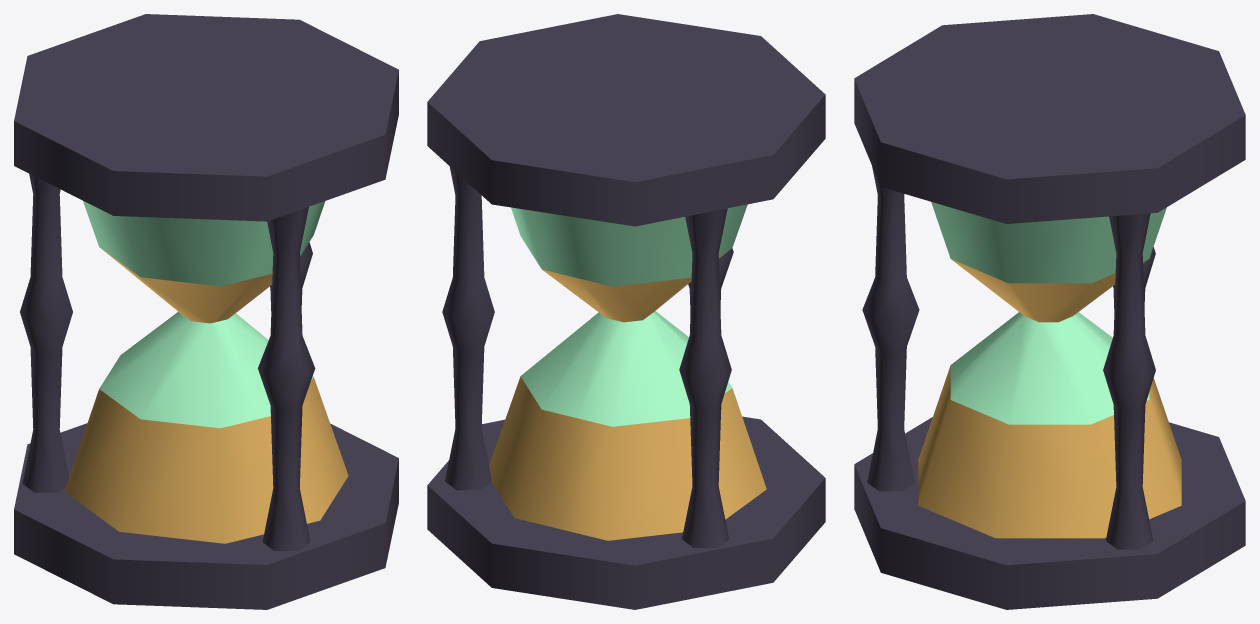
The model's file is Sandglass.fbx.
The picture shows the model from 3 angles, left to right: view 1: azimuth 30°, elevation 25°; view 2: azimuth 150°, elevation 25°; view 3: azimuth 270°, elevation 25°; orthographic projection.
Parts seen in each view (by area): view 1: _sandglass:_sandglass_0; view 2: _sandglass:_sandglass_0; view 3: _sandglass:_sandglass_0.
Part boxes in pixels (x1,y1,x2,y2): _sandglass:_sandglass_0: [14, 14, 398, 609]; _sandglass:_sandglass_0: [427, 14, 825, 609]; _sandglass:_sandglass_0: [854, 14, 1245, 609].
Bounding box in the file's own units: 0.6881 × 0.835 × 0.6881.
